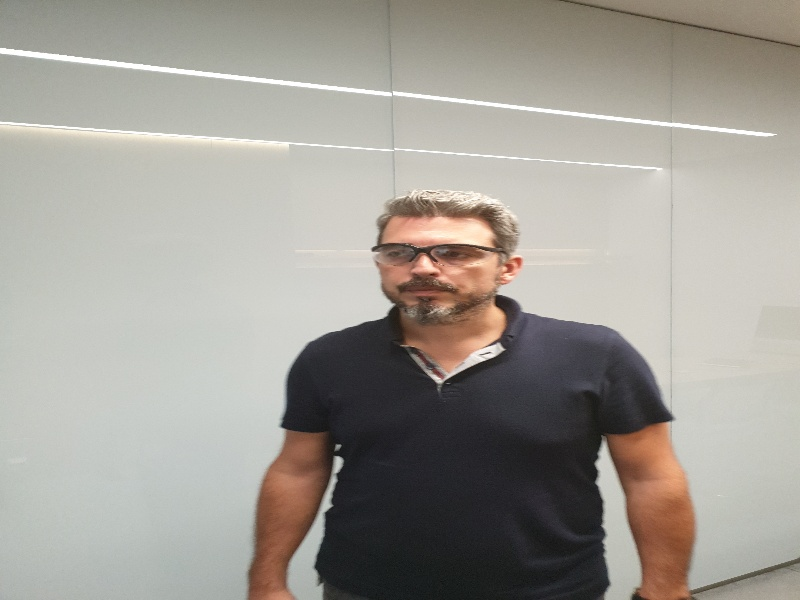Gozluk: (373, 243, 510, 266)
